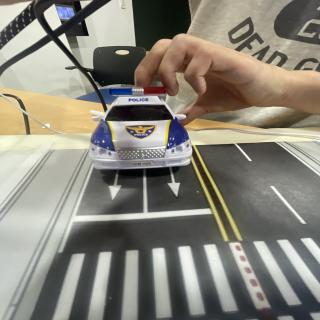Police_car: (89, 87, 192, 169)
